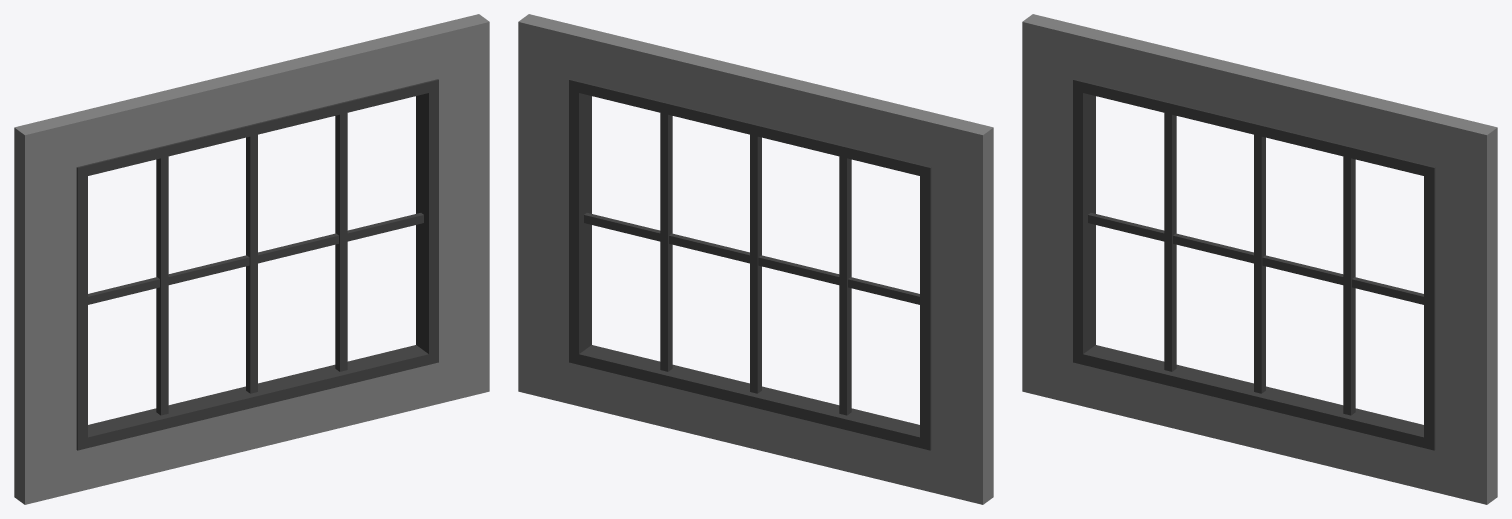
File: Wall_05.fbx
3 views of the same model, side by side, from view 1: azimuth 30°, elevation 25°; view 2: azimuth 150°, elevation 25°; view 3: azimuth 330°, elevation 25° (orthographic).
Visible parts, largest first — view 1: Wall_05; view 2: Wall_05; view 3: Wall_05.
Part boxes in pixels (x1,y1,x2,y2): Wall_05: (14, 14, 489, 504); Wall_05: (518, 14, 993, 504); Wall_05: (1022, 14, 1497, 504).
Bounding box in the file's own units: 500 × 380 × 23.81.
